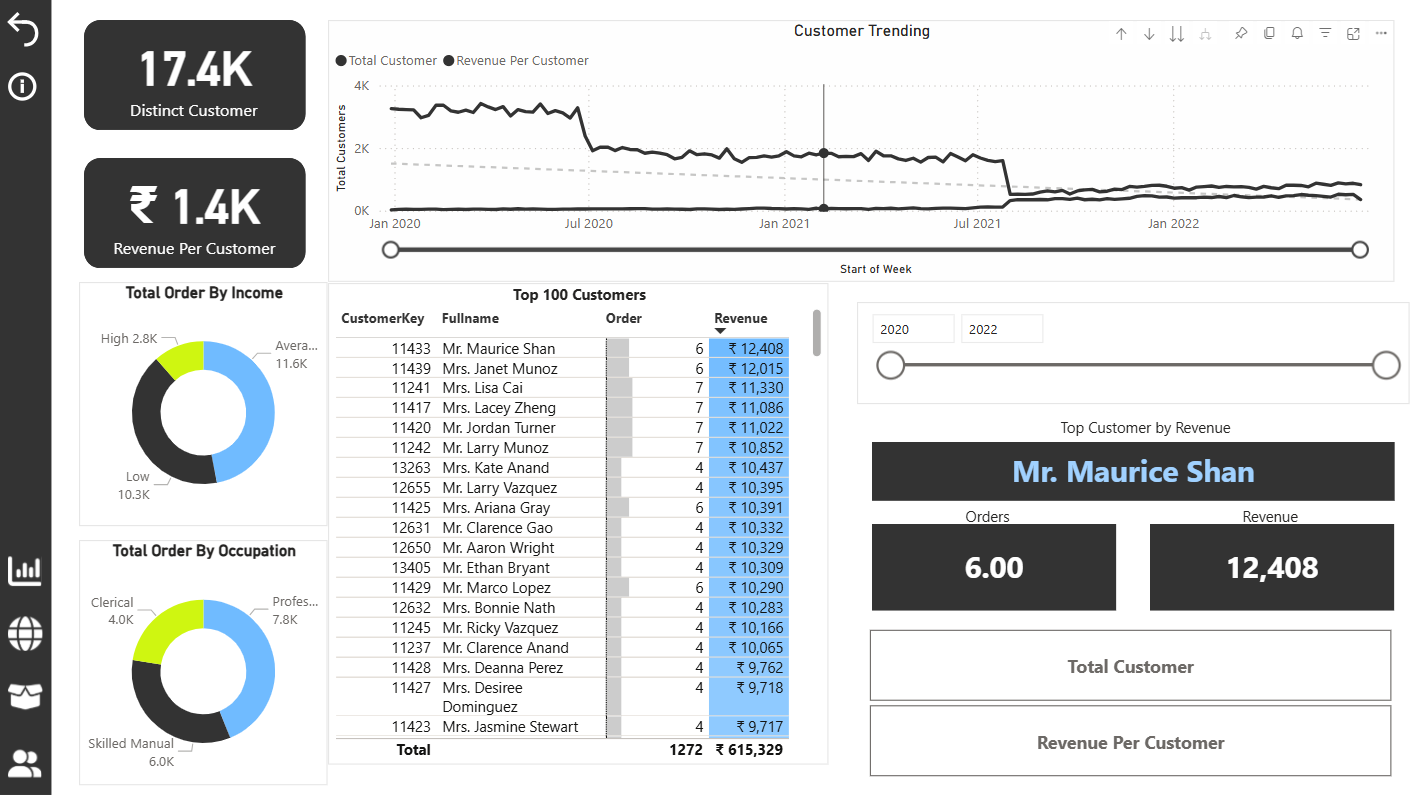

This screenshot's page, from the dashboard's own definition file:
{"tool":"powerbi","page":{"name":"Customers Details","canvas":[1280,720],"ordinal":3},"visuals":[{"type":"shape","title":"Left Navigation","box":[0,0,48.2,719.3],"z":0},{"type":"card","fields":{"Values":["Measure Table.Total distinct Customer"]},"box":[96.4,8.1,162.1,124.5],"z":0,"group":"g3"},{"type":"shape","box":[77.9,145.1,199.7,99.4],"z":0,"group":"g1"},{"type":"group","id":"g1","title":"Customer Cards","box":[77.9,20.6,199.7,223.9],"z":500,"group":"g2"},{"type":"group","id":"g2","title":"Customer Info","box":[77.9,8.1,199.7,249],"z":1000},{"type":"group","id":"g3","title":"Customer Details","box":[96,8.1,163,249],"z":1000,"group":"g2"},{"type":"shape","box":[77.9,20.6,199.7,99.4],"z":1000,"group":"g1"},{"type":"card","fields":{"Values":["Measure Table.Average Revenue Per Customer"]},"box":[96,132.6,163,124.5],"z":1000,"group":"g3"},{"type":"actionButton","box":[0,498.4,48.4,38.3],"z":1000,"group":"g4"},{"type":"lineChart","title":"Customer Trending","fields":{"Y":["Measure Table.Total distinct Customer","Measure Table.Average Revenue Per Customer"],"Category":["Calendar Lookup.date Hirarchy.Start of Year","Calendar Lookup.date Hirarchy.Start of Month","Calendar Lookup.date Hirarchy.Start of Week","Calendar Lookup.date Hirarchy.Date"]},"box":[297.4,20.9,960.6,235.8],"z":2000},{"type":"actionButton","box":[0,553.8,48.4,39.3],"z":2000,"group":"g4"},{"type":"donutChart","title":"Total Order By Income","fields":{"Y":["Measure Table.Total Order"],"Category":["Customer Lookup.income level"]},"box":[73.2,256.7,224.2,219.5],"z":3000},{"type":"actionButton","box":[0,611.3,48.4,39.3],"z":3000,"group":"g4"},{"type":"donutChart","title":"Total Order By Occupation","fields":{"Y":["Measure Table.Total Order"],"Category":["Customer Lookup.Occupation"]},"box":[73.2,489,224.2,220.7],"z":4000},{"type":"actionButton","box":[0,671.7,48.2,38.8],"z":4000,"group":"g4"},{"type":"tableEx","title":"Top 100 Customers","fields":{"Values":["Customer Lookup.CustomerKey","Customer Lookup.Customer Fullname (DAX_measure)","Measure Table.Total Order","Measure Table.Total Revenue"]},"box":[297.3,257.3,450.9,433.6],"z":5000},{"type":"card","fields":{"Values":["Customer Lookup.Full Name (Customer Detail)"]},"box":[787.3,400.9,470.9,52.7],"z":6000},{"type":"textbox","box":[952.7,373.7,170.9,27.3],"z":7000},{"type":"card","fields":{"Values":["Measure Table.Total Order (Customer Detail)"]},"box":[787.3,474.5,220,78.2],"z":8000},{"type":"card","fields":{"Values":["Measure Table.Total Revenue (Customer Detail)"]},"box":[1038.2,474.5,220,78.2],"z":9000},{"type":"textbox","box":[867.3,453.7,59.1,27.3],"z":10000},{"type":"textbox","box":[1116.4,453.7,62.7,27.3],"z":11000},{"type":"slicer","fields":{"Values":["Calendar Lookup.Year"]},"box":[773.6,274.5,498.2,91.8],"z":12000},{"type":"actionButton","box":[4.2,61.2,34.7,38.9],"z":13000},{"type":"actionButton","box":[1.4,8.3,41.7,41.7],"z":14000},{"type":"group","id":"g4","title":"Navigartion Buttons","box":[0,498.4,48.2,211.6],"z":15000},{"type":"slicer","fields":{"Values":["Customer Metric Selection.Customer Metric Selection"]},"box":[759.9,563.4,520.1,146.1],"z":16000}]}

Visuals, with their boxes on the page's 1280x720 design canvas (x1, y1, x2, y2). These are canvas units, not pixel positions in the 1419x796 screenshot, which may show the page scaled, cropped or inside an application window:
"Left Navigation" shape: locate(0, 0, 48, 719)
card - Measure Table.Total distinct Customer: locate(96, 8, 258, 133)
shape: locate(78, 145, 278, 244)
"Customer Cards" group: locate(78, 21, 278, 244)
"Customer Info" group: locate(78, 8, 278, 257)
"Customer Details" group: locate(96, 8, 259, 257)
shape: locate(78, 21, 278, 120)
card - Measure Table.Average Revenue Per Customer: locate(96, 133, 259, 257)
actionButton: locate(0, 498, 48, 537)
"Customer Trending" lineChart: locate(297, 21, 1258, 257)
actionButton: locate(0, 554, 48, 593)
"Total Order By Income" donutChart: locate(73, 257, 297, 476)
actionButton: locate(0, 611, 48, 651)
"Total Order By Occupation" donutChart: locate(73, 489, 297, 710)
actionButton: locate(0, 672, 48, 710)
"Top 100 Customers" tableEx: locate(297, 257, 748, 691)
card - Customer Lookup.Full Name (Customer Detail): locate(787, 401, 1258, 454)
textbox: locate(953, 374, 1124, 401)
card - Measure Table.Total Order (Customer Detail): locate(787, 474, 1007, 553)
card - Measure Table.Total Revenue (Customer Detail): locate(1038, 474, 1258, 553)
textbox: locate(867, 454, 926, 481)
textbox: locate(1116, 454, 1179, 481)
slicer - Calendar Lookup.Year: locate(774, 274, 1272, 366)
actionButton: locate(4, 61, 39, 100)
actionButton: locate(1, 8, 43, 50)
"Navigartion Buttons" group: locate(0, 498, 48, 710)
slicer - Customer Metric Selection.Customer Metric Selection: locate(760, 563, 1280, 710)
